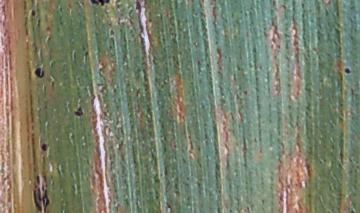tarspot: (32, 173, 50, 213), (33, 66, 46, 79), (88, 1, 112, 8), (133, 1, 144, 16), (73, 106, 84, 117), (343, 66, 352, 76), (40, 143, 48, 152), (241, 88, 250, 96), (81, 50, 91, 57), (29, 9, 36, 17), (349, 208, 357, 213)
